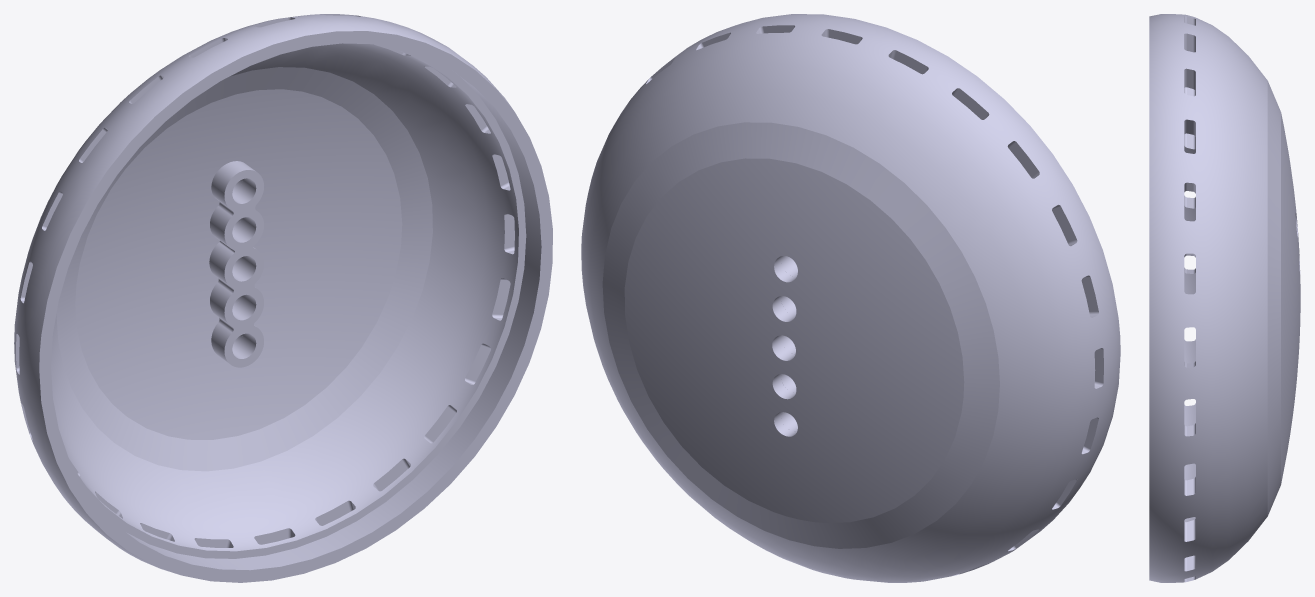
Rendered from google-home-mini-v2-top.gltf.
The picture shows the model from 3 angles, left to right: view 1: azimuth 30°, elevation 25°; view 2: azimuth 150°, elevation 25°; view 3: azimuth 270°, elevation 25°; orthographic projection. The views are drawn at different scales.
Parts seen in each view (by area): view 1: Cut001, Body002; view 2: Cut001, Body002; view 3: Cut001.
Boxes of the visible parts, box(x1,y1,x2,y2) form: Cut001: box(14, 14, 552, 582); Body002: box(209, 161, 263, 367); Cut001: box(581, 14, 1120, 582); Body002: box(781, 256, 797, 431); Cut001: box(1149, 14, 1300, 582).
Size of the model in its own units: 0.098 by 0.0979 by 0.026.
